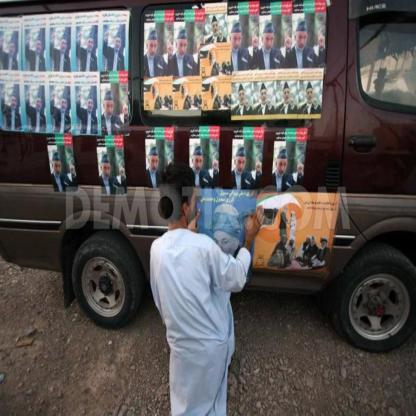face: (213, 232, 240, 263), (183, 186, 197, 220), (296, 33, 308, 52), (278, 159, 288, 178), (194, 156, 204, 173), (231, 35, 241, 52), (265, 35, 275, 52), (236, 159, 246, 175), (149, 41, 158, 58), (179, 41, 187, 58), (150, 156, 159, 171), (106, 102, 114, 118), (103, 164, 111, 179), (53, 164, 62, 176), (283, 92, 292, 103), (213, 23, 221, 35), (308, 91, 315, 103), (36, 99, 43, 110), (239, 93, 246, 104), (261, 92, 268, 103), (88, 40, 94, 52), (114, 39, 121, 49), (88, 101, 94, 112), (62, 102, 68, 113), (12, 99, 18, 110), (61, 41, 67, 52), (10, 44, 15, 55), (37, 43, 42, 53), (321, 241, 326, 249), (312, 239, 316, 248), (283, 238, 286, 246), (291, 239, 295, 245), (307, 239, 311, 245)
